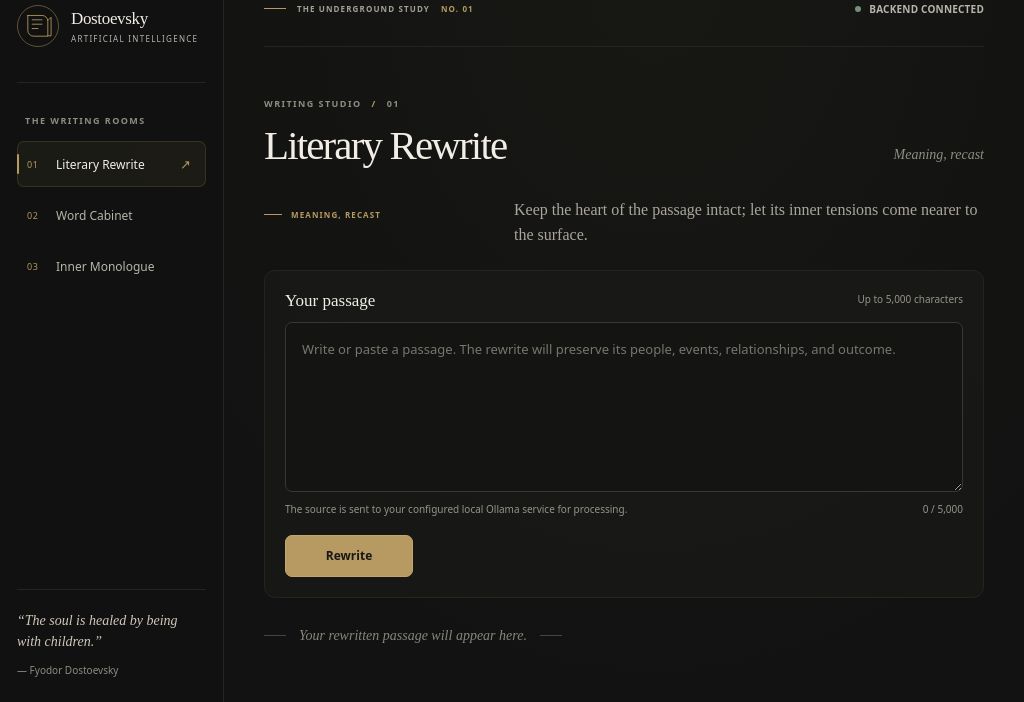
Test: App integration, state preservation and hash navigation › preserves Word Cabinet context, count selection, and cards across navigation
The image size is (1024, 702).
# Switch to Word Cabinet
Click the button "02 Word Cabinet": coordinates (112, 215) x1=17 y1=192 x2=206 y2=238
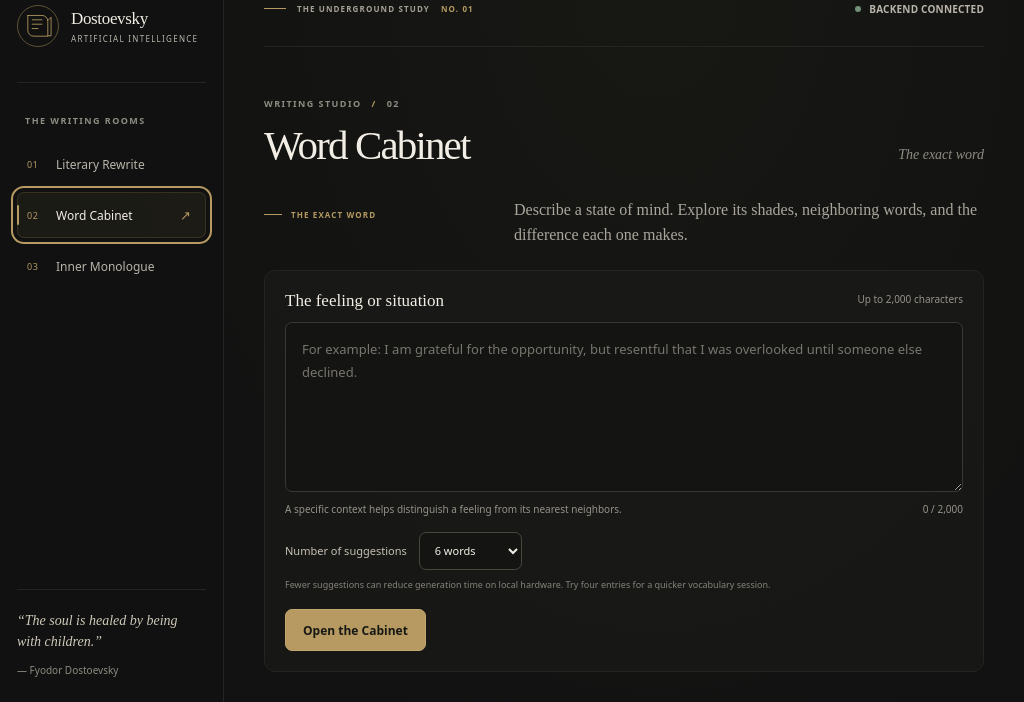
In the text box labelled "The feeling or situation Up to 2,000 characters": coordinates (624, 407) x1=285 y1=322 x2=963 y2=492, type "Guilt and pride"
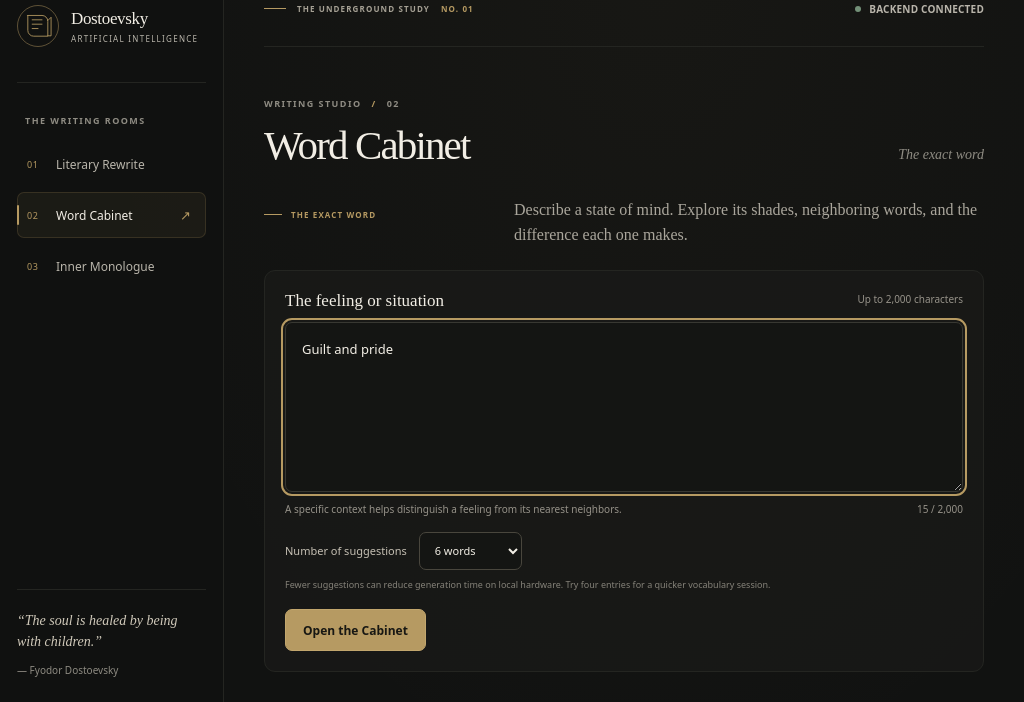
Select "5 words" in the dropdown labelled "Number of suggestions": coordinates (470, 551) x1=419 y1=532 x2=522 y2=570
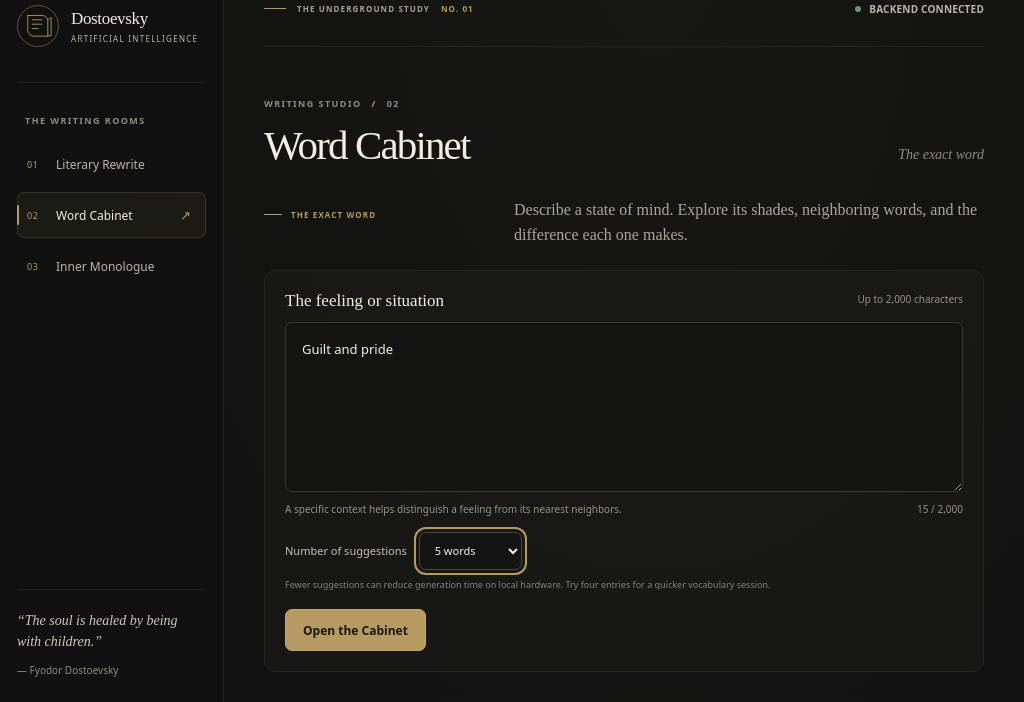
Click the button "Open the Cabinet": coordinates (355, 630) x1=285 y1=609 x2=426 y2=651
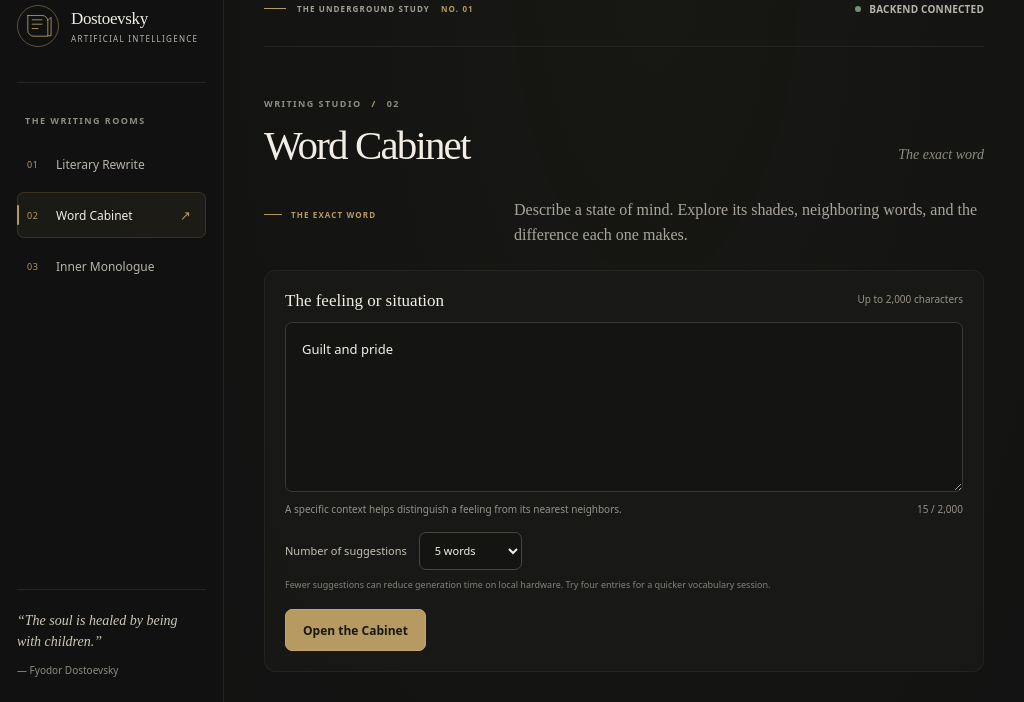
# Navigate to Inner Monologue
Click the button "03 Inner Monologue": coordinates (112, 266) x1=17 y1=243 x2=206 y2=289
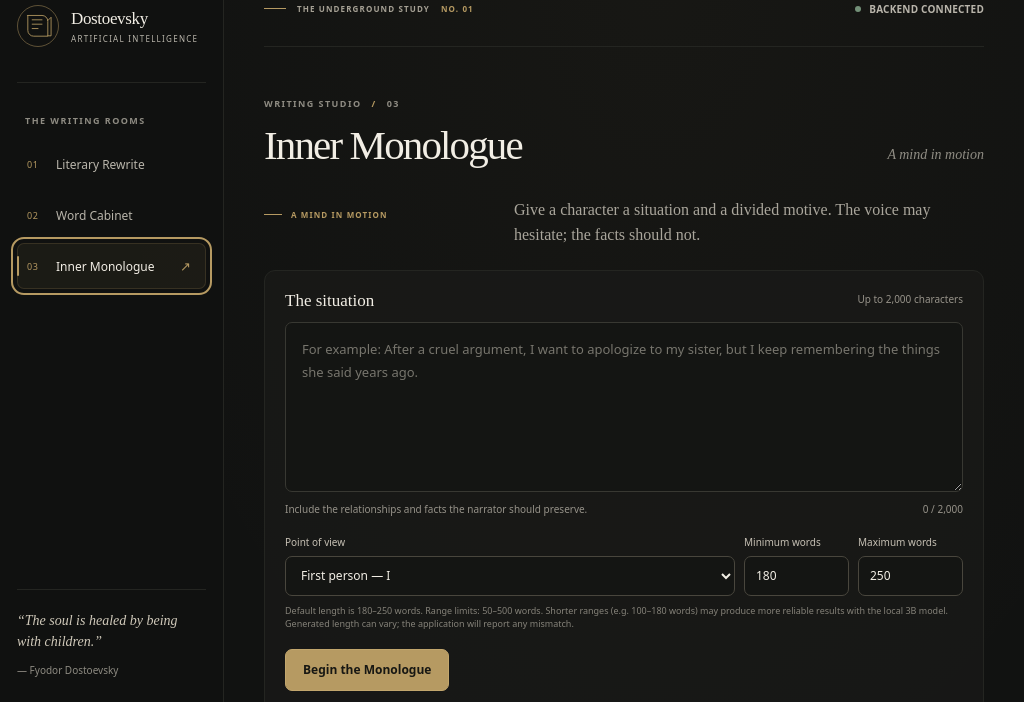
# Return to Word Cabinet
Click the button "02 Word Cabinet": coordinates (112, 215) x1=17 y1=192 x2=206 y2=238
(page scrolled)
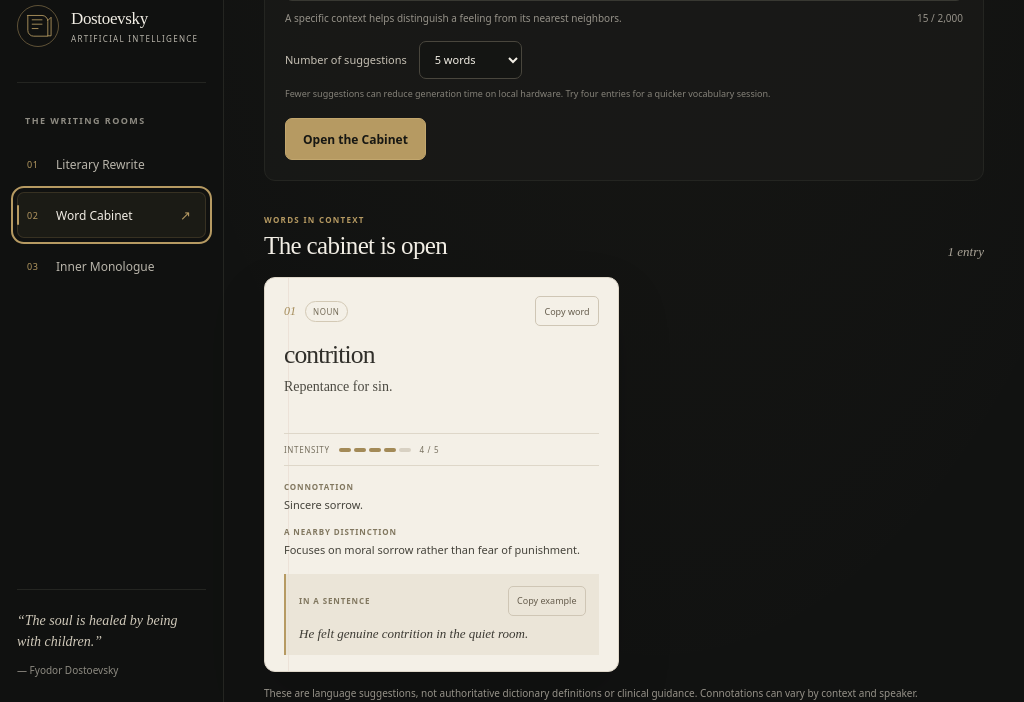
Expected: the heading "contrition" is shown, x1=284 y1=340 x2=375 y2=369
